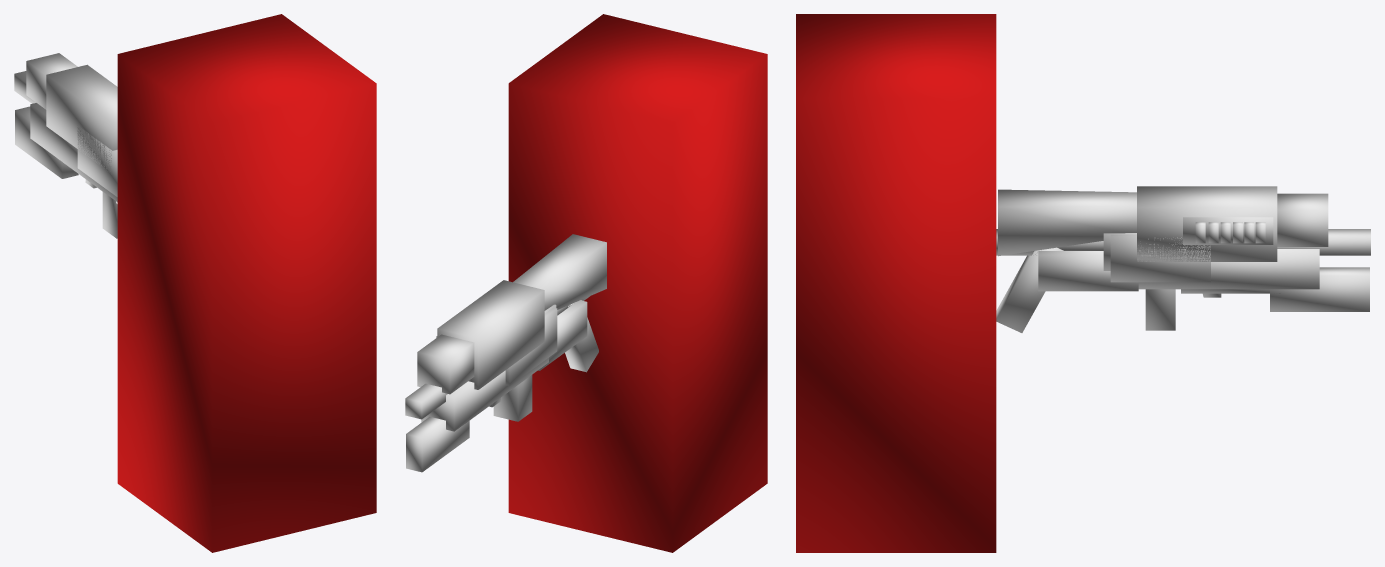
The model's file is pompone.fbx.
3 renders of one model, left to right at view 1: azimuth 30°, elevation 25°; view 2: azimuth 150°, elevation 25°; view 3: azimuth 270°, elevation 25°, orthographic. The views are drawn at different scales.
Parts seen in each view (by area): view 1: Cubo, Cubo.1, Cubo.5.2, Cubo.4.2, Cubo.2.2, Cubo.4, Cubo.6.2; view 2: Cubo, Cubo.1, Cubo.2, Cubo.4, Cubo.4.2, Cubo.2.2, Cubo.5.2, Cubo.8.2, Cubo.6.2, Cubo.1.2, Cubo.7.2; view 3: Cubo, Cubo.1, Cubo.2, Cubo.4.2, Cubo.5.2, Cubo.2.2, Cubo.8.2, Cubo.4, Cubo.7.2, Cubo.1.2, Cubo.12, Cubo.6.2.
Boxes of the visible parts, x1,y1,x2,y2 form: Cubo: [117, 14, 376, 552]; Cubo.1: [46, 64, 117, 171]; Cubo.5.2: [77, 125, 117, 196]; Cubo.4.2: [30, 103, 117, 201]; Cubo.2.2: [15, 106, 78, 178]; Cubo.4: [26, 53, 77, 109]; Cubo.6.2: [102, 192, 117, 238]; Cubo: [508, 14, 767, 552]; Cubo.1: [437, 280, 544, 389]; Cubo.2: [513, 234, 606, 310]; Cubo.4: [417, 334, 474, 394]; Cubo.4.2: [421, 358, 548, 431]; Cubo.2.2: [406, 416, 469, 472]; Cubo.5.2: [505, 307, 557, 385]; Cubo.8.2: [538, 300, 587, 370]; Cubo.6.2: [493, 375, 532, 421]; Cubo.1.2: [405, 296, 589, 419]; Cubo.7.2: [565, 300, 598, 372]; Cubo: [796, 14, 996, 552]; Cubo.1: [1137, 186, 1277, 261]; Cubo.2: [998, 189, 1136, 256]; Cubo.4.2: [1138, 249, 1319, 289]; Cubo.5.2: [1110, 234, 1210, 282]; Cubo.2.2: [1270, 267, 1369, 311]; Cubo.8.2: [1038, 251, 1138, 291]; Cubo.4: [1277, 193, 1328, 246]; Cubo.7.2: [996, 247, 1063, 332]; Cubo.1.2: [996, 229, 1370, 255]; Cubo.12: [1183, 217, 1273, 244]; Cubo.6.2: [1145, 289, 1175, 330].
Bounding box in the file's own units: 100 × 250 × 287.
